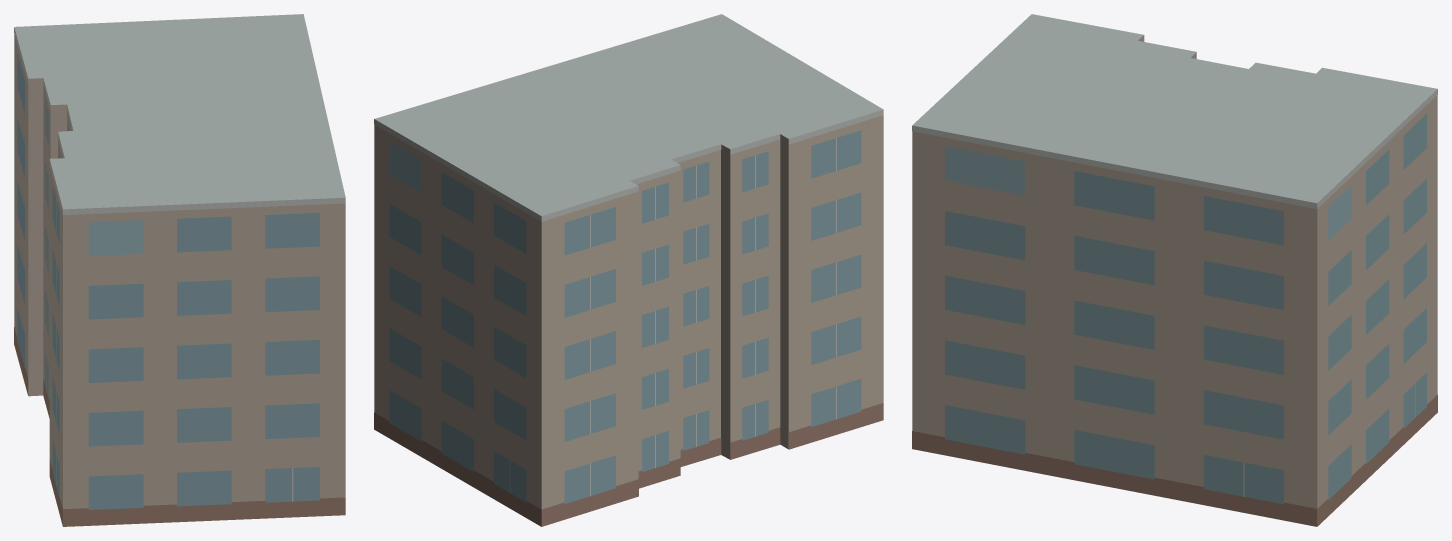
Rendered from survey-upis-32672087.glb.
The picture shows the model from 3 angles, left to right: view 1: azimuth 30°, elevation 25°; view 2: azimuth 150°, elevation 25°; view 3: azimuth 270°, elevation 25°; orthographic projection. The views are drawn at different scales.
Visible parts, largest first — view 1: survey-upis-32672087.tmp; view 2: survey-upis-32672087.tmp; view 3: survey-upis-32672087.tmp.
Boxes of the visible parts, x1,y1,x2,y2 form: survey-upis-32672087.tmp: (14,14,345,526); survey-upis-32672087.tmp: (374,14,883,526); survey-upis-32672087.tmp: (912,14,1437,526).
Bounding box in the file's own units: 17.07 × 13.6 × 20.04.
